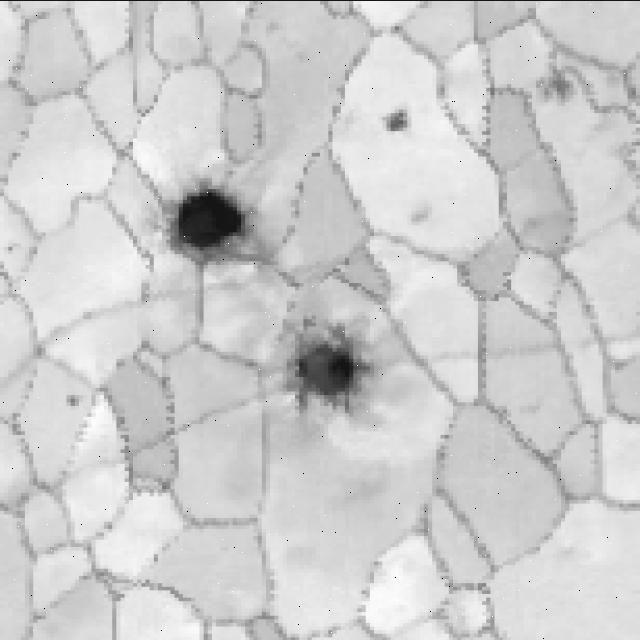good_void: (284, 323, 378, 429), (171, 183, 264, 258), (531, 42, 586, 105), (377, 89, 421, 136), (403, 196, 440, 226), (59, 390, 86, 416)
